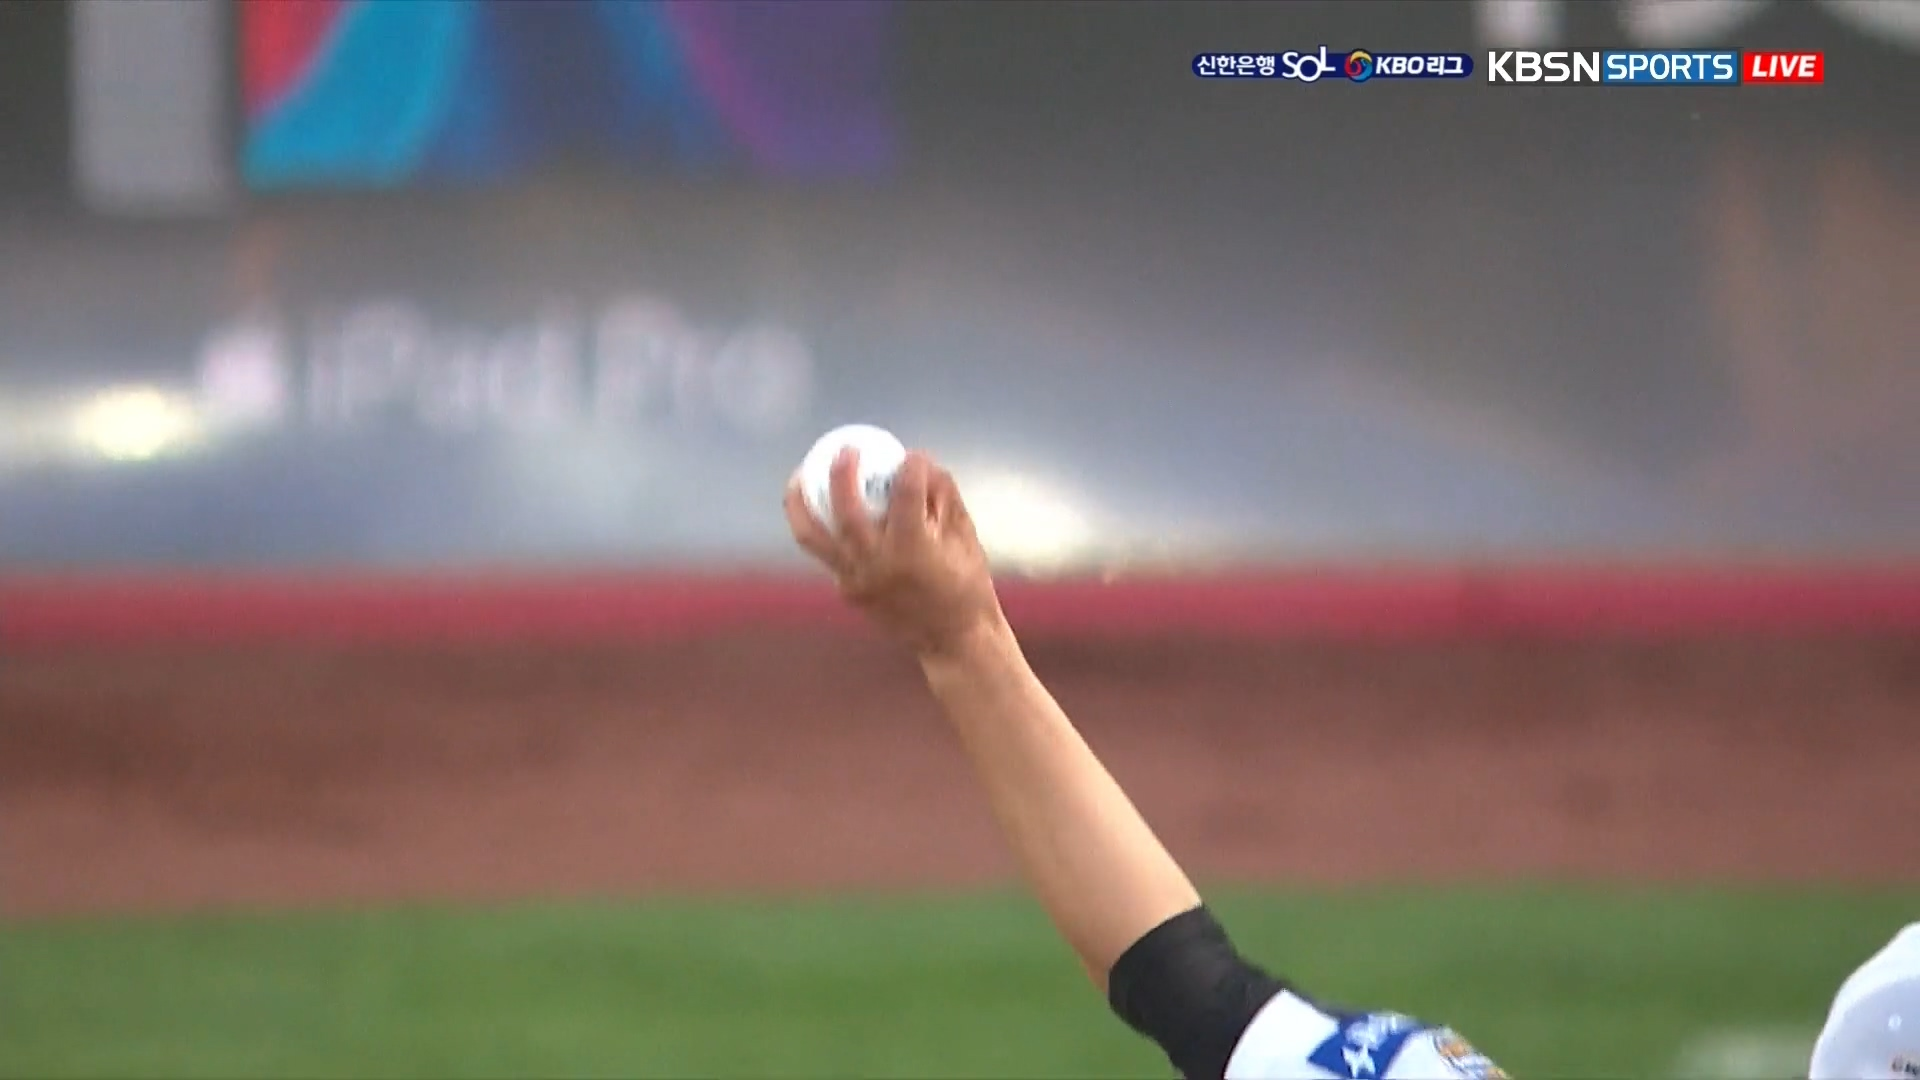zoomin_hand: (765, 394, 1240, 1039)
